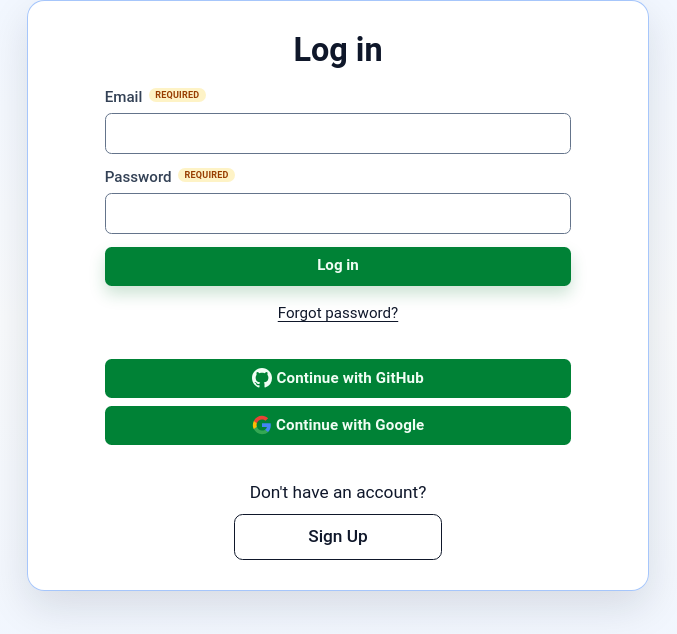
Test: GitHub login › starts loading when the GitHub login button is clicked
Click the button "Continue with GitHub" at (338, 378), box [105,359,571,398]
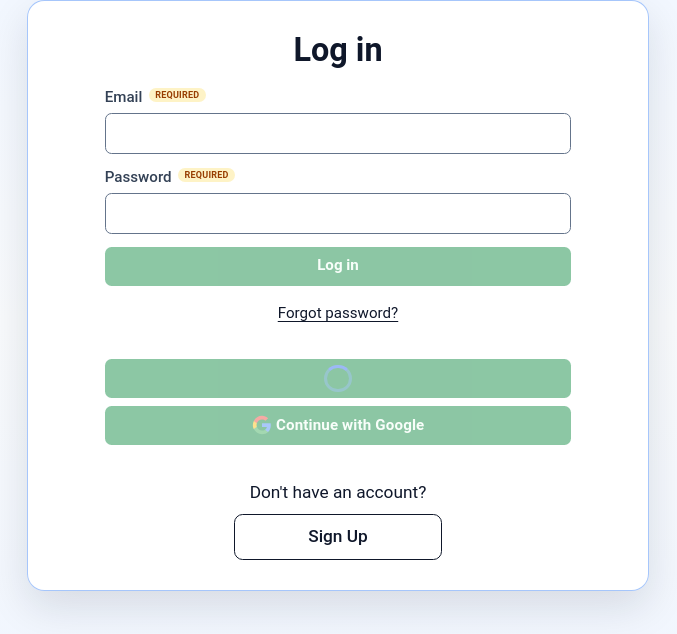
Now the button named "Continue with GitHub" is disabled, box [105,359,571,398]
Now the message named "Loading" is shown, box [324,365,404,397]
